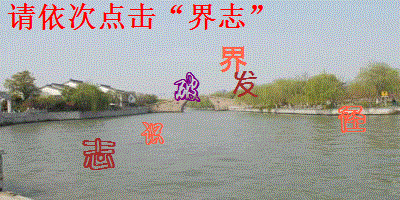result: (186, 2, 250, 31)
text: (80, 136, 117, 173), (336, 102, 369, 135), (171, 70, 202, 103), (218, 45, 249, 74), (232, 68, 259, 99), (140, 119, 166, 147)
